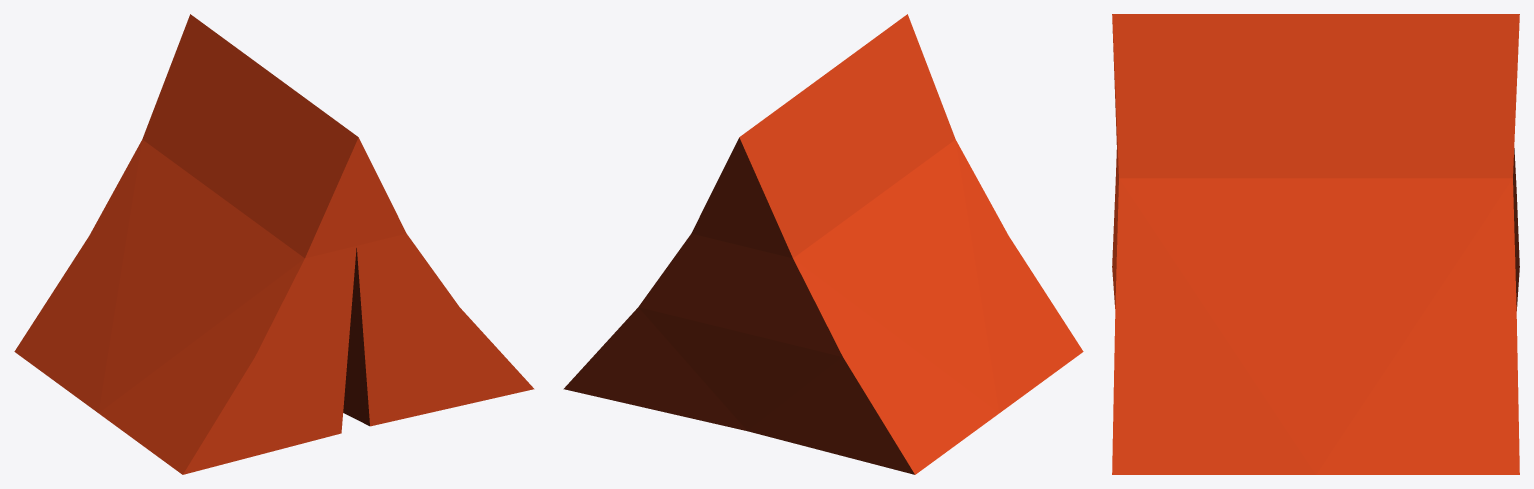
File: tent02.fbx
3 renders of one model, left to right at view 1: azimuth 30°, elevation 25°; view 2: azimuth 150°, elevation 25°; view 3: azimuth 270°, elevation 25°, orthographic. The views are drawn at different scales.
Visible parts, largest first — view 1: tent_02; view 2: tent_02; view 3: tent_02.
Boxes of the visible parts, x1,y1,x2,y2 form: tent_02: (14,14,534,474); tent_02: (563,14,1083,474); tent_02: (1112,14,1519,474).
Bounding box in the file's own units: 2.81 × 2.33 × 2.25.
